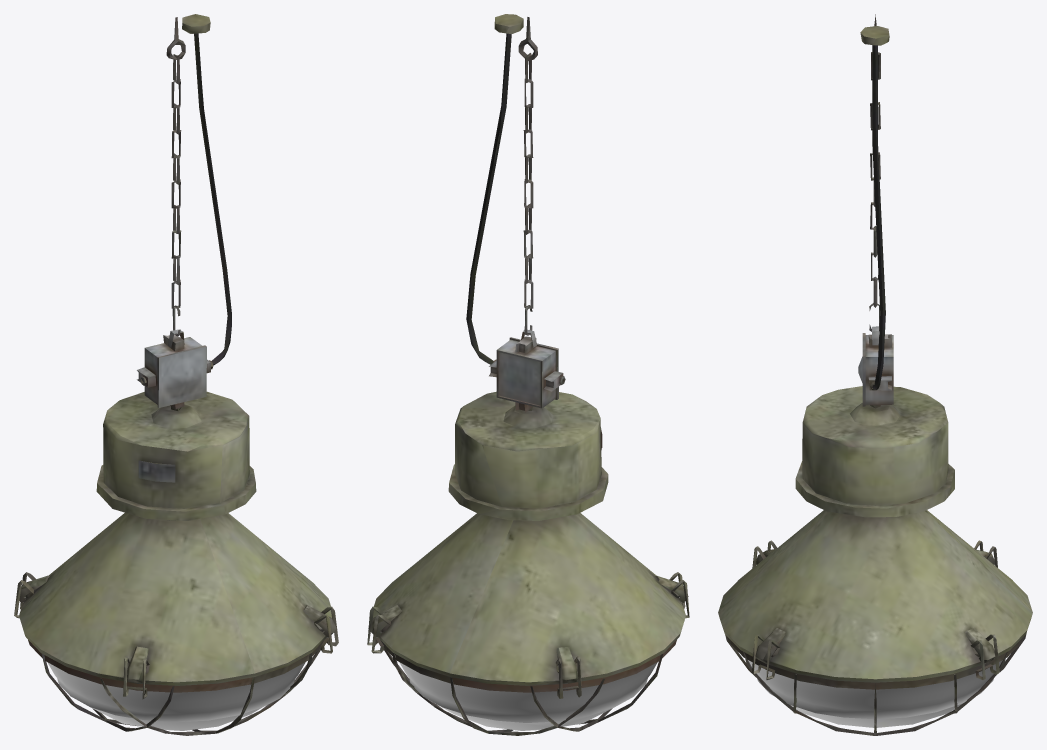
File: hanging_industrial_lamp.glb
3 renders of one model, left to right at view 1: azimuth 30°, elevation 25°; view 2: azimuth 150°, elevation 25°; view 3: azimuth 270°, elevation 25°, orthographic.
Parts seen in each view (by area): view 1: hanging_industrial_lamp; view 2: hanging_industrial_lamp; view 3: hanging_industrial_lamp.
Part boxes in pixels (left/top/right/bottom): hanging_industrial_lamp: left=14, top=14, right=338, bottom=735; hanging_industrial_lamp: left=367, top=14, right=689, bottom=735; hanging_industrial_lamp: left=718, top=14, right=1032, bottom=735.
Size of the model in its own units: 0.5496 by 1.36 by 0.5496.
Materials: 1 (1 with a texture image).
